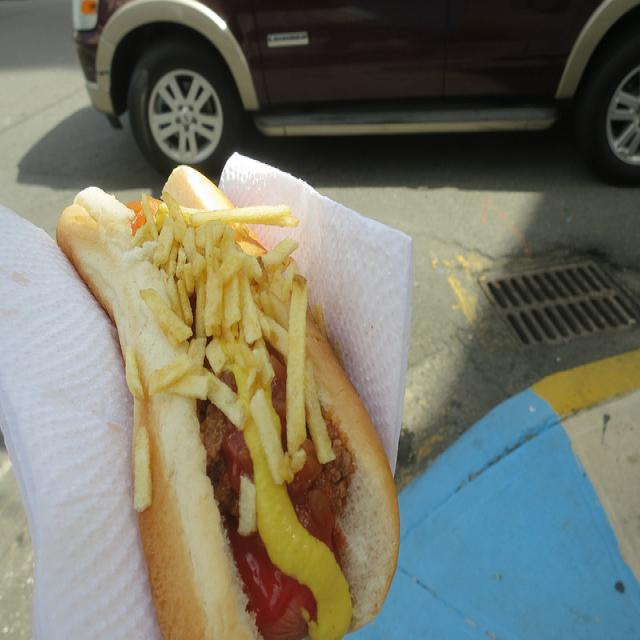Vehicle: (71, 1, 640, 190)
